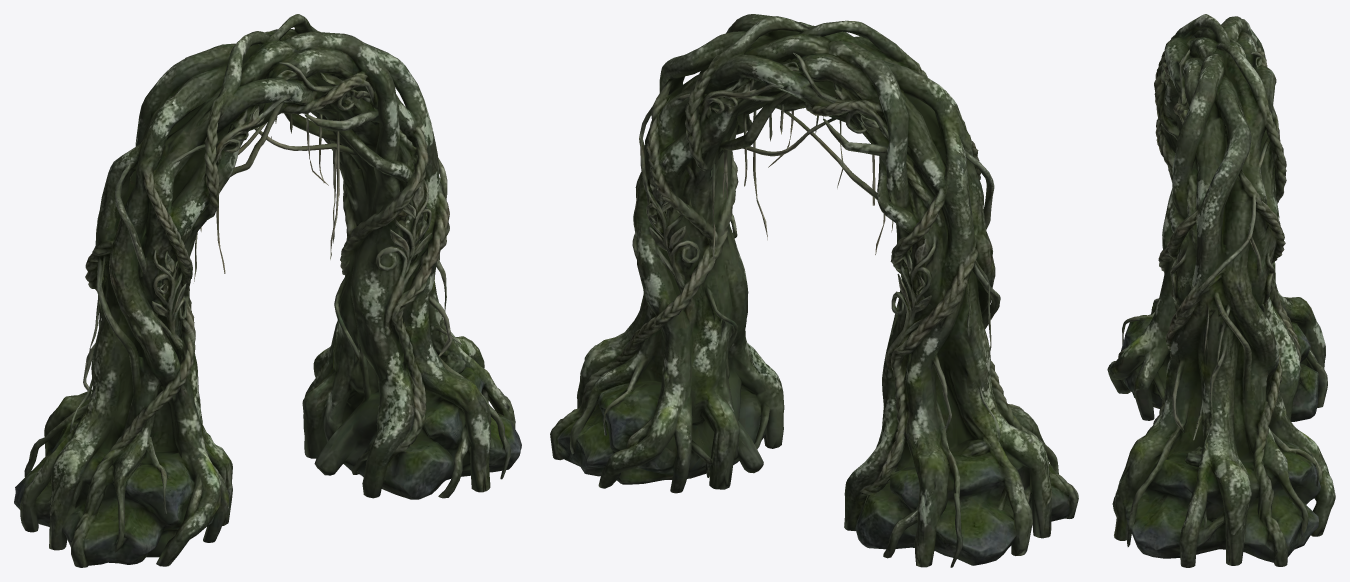
File: grotto_root_arch.glb
3 renders of one model, left to right at view 1: azimuth 30°, elevation 25°; view 2: azimuth 150°, elevation 25°; view 3: azimuth 270°, elevation 25°, orthographic. The views are drawn at different scales.
Parts seen in each view (by area): view 1: tripo_node_22924847-333b-43f3-a586-7fbd866d39dc; view 2: tripo_node_22924847-333b-43f3-a586-7fbd866d39dc; view 3: tripo_node_22924847-333b-43f3-a586-7fbd866d39dc.
Part boxes in pixels (x1,y1,x2,y2): tripo_node_22924847-333b-43f3-a586-7fbd866d39dc: (14, 14, 521, 567); tripo_node_22924847-333b-43f3-a586-7fbd866d39dc: (550, 14, 1078, 567); tripo_node_22924847-333b-43f3-a586-7fbd866d39dc: (1107, 14, 1335, 567).
Bounding box in the file's own units: 0.9777 × 0.9424 × 0.4473.
1 material, 1 textured.
